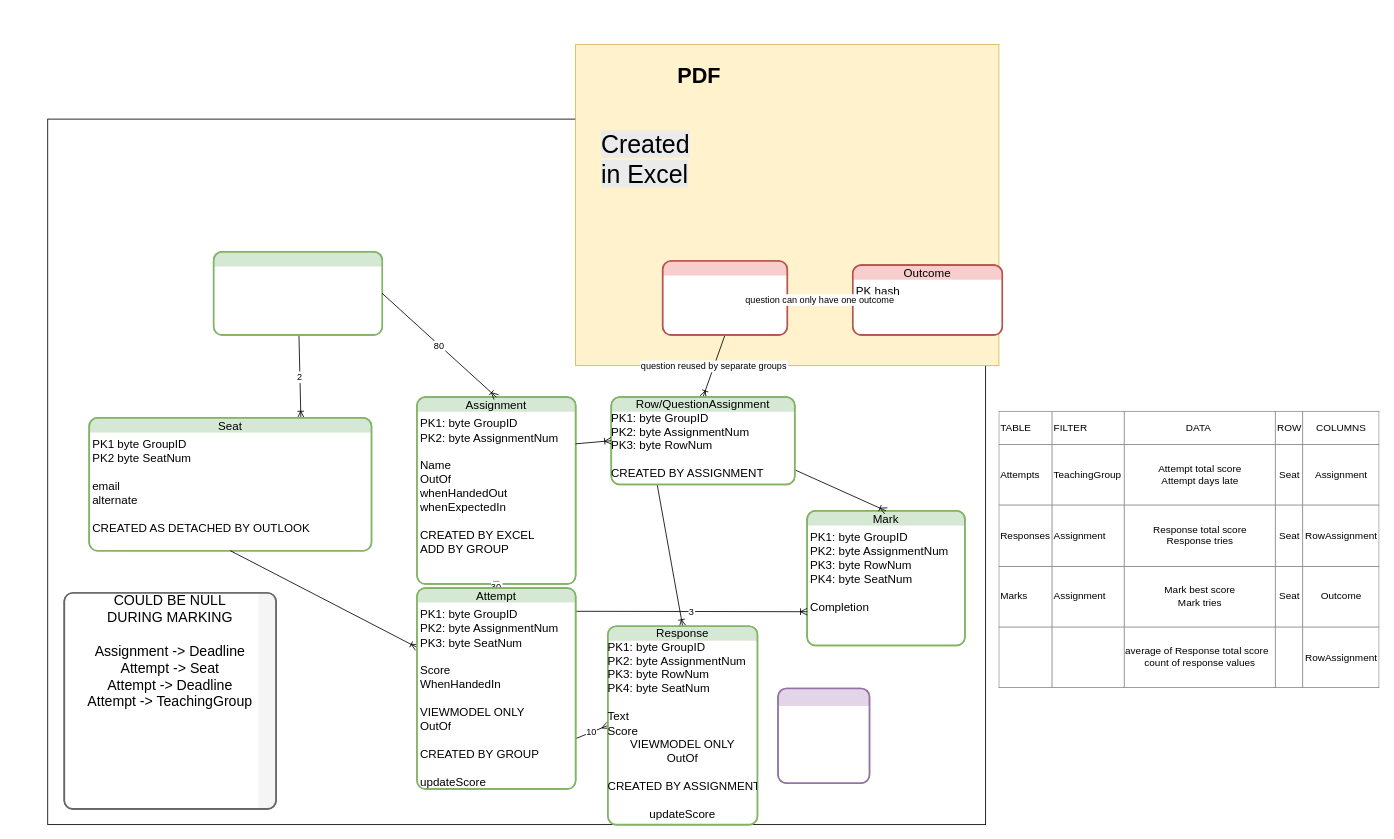
Some shapes in this 1394 by 839 pixel diagram are drawn without their labels. Each missing label, with the centre of its shape:
Group PK1 byte GroupID NAME 16chars: the point at 297,293
Row/Question PK hash OutOf: the point at 725,297
SubResponse: the point at 823,735
